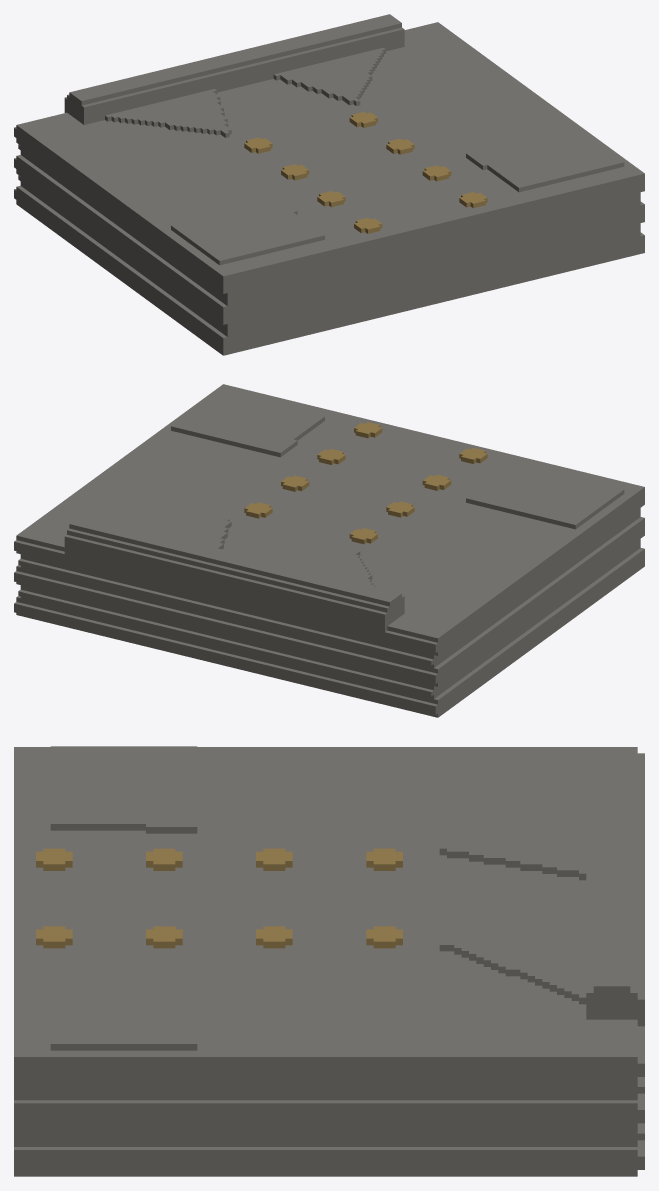
Rendered from greatcoat.glb.
The picture shows the model from 3 angles, top to bottom: view 1: azimuth 30°, elevation 25°; view 2: azimuth 150°, elevation 25°; view 3: azimuth 270°, elevation 25°; orthographic projection. The views are drawn at different scales.
Visible parts, largest first — view 1: greatcoat:compound; view 2: greatcoat:compound; view 3: greatcoat:compound.
Part boxes in pixels (x1,y1,x2,y2): greatcoat:compound: [14, 14, 644, 355]; greatcoat:compound: [14, 384, 644, 717]; greatcoat:compound: [14, 746, 644, 1176].
Bounding box in the file's own units: 0.4 × 0.092 × 0.344.
